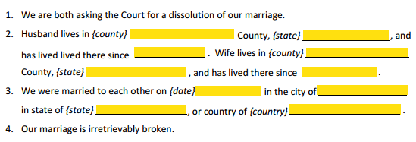textline: (288, 102, 402, 116), (304, 45, 411, 59), (85, 65, 189, 79), (126, 28, 236, 41), (317, 83, 409, 97), (95, 102, 187, 116), (301, 28, 392, 42), (298, 64, 379, 79), (193, 83, 262, 98), (133, 45, 206, 59)
